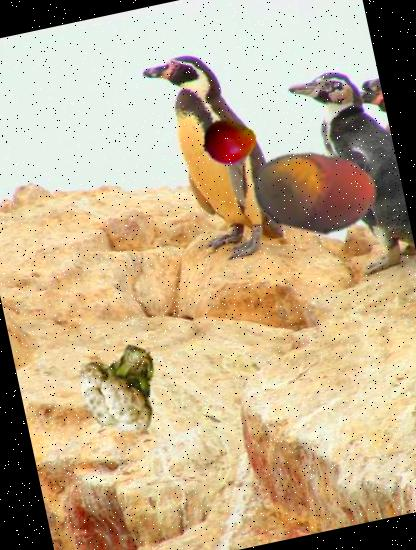Cauliflower: (66, 333, 172, 438)
Hazelnut: (232, 112, 392, 272)
Mango: (197, 110, 262, 174)
